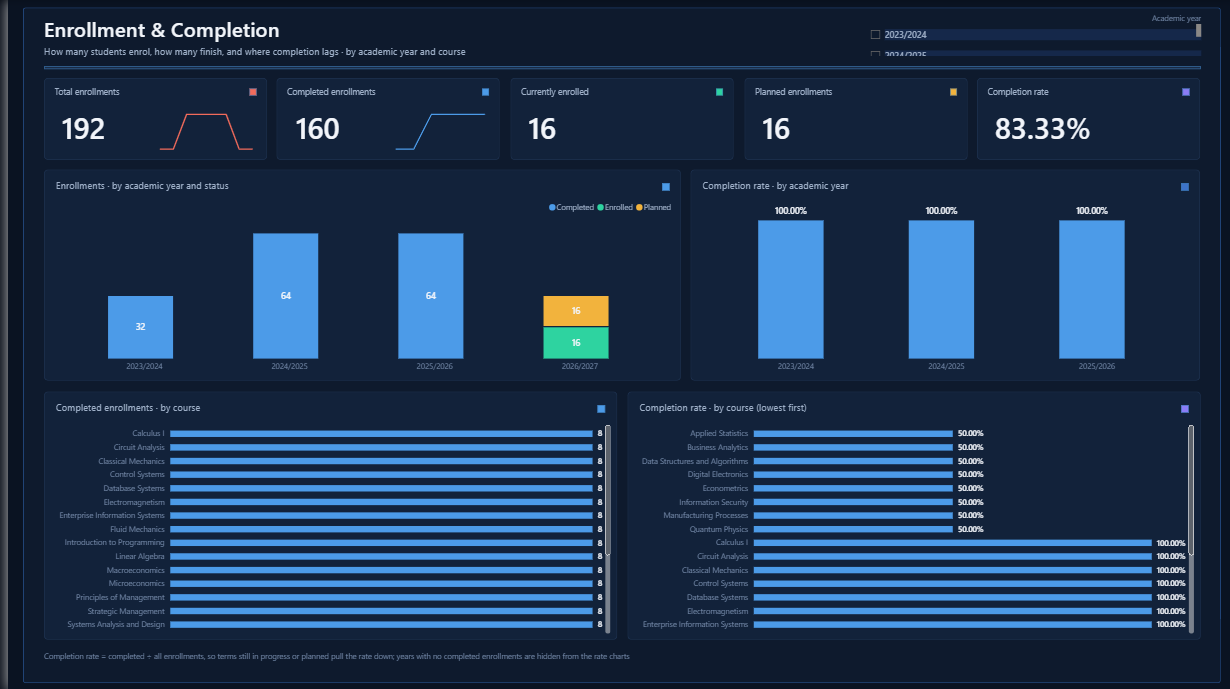

This screenshot's page, from the dashboard's own definition file:
{"tool":"powerbi","page":{"name":"Enrollment & Completion","canvas":[1920,1080],"ordinal":1},"visuals":[{"type":"shape","box":[24,12,1872,1056],"z":100},{"type":"textbox","box":[56,24,1200,46],"z":200},{"type":"textbox","box":[56,70,1250,26],"z":300},{"type":"textbox","box":[1340,18,524,18],"z":400},{"type":"slicer","fields":{"Values":["Semester.AcademicYear"]},"box":[1340,38,524,50],"z":500},{"type":"shape","box":[56,104,1808,5],"z":600},{"type":"shape","box":[56,122,348.8,128],"z":700},{"type":"textbox","box":[72,134,292.8,22],"z":800},{"type":"shape","box":[376.8,139,11,11],"z":900},{"type":"cardVisual","fields":{"Data":["Enrollment.Total Enrollments"]},"box":[68,158,160.4,82],"z":1000},{"type":"lineChart","fields":{"Category":["Semester.Semester Label"],"Y":["Enrollment.Total Enrollments"]},"box":[230.4,160,160.4,78],"z":1100},{"type":"shape","box":[420.8,122,348.8,128],"z":1200},{"type":"textbox","box":[436.8,134,292.8,22],"z":1300},{"type":"shape","box":[741.6,139,11,11],"z":1400},{"type":"cardVisual","fields":{"Data":["Enrollment.Completed Enrollments"]},"box":[432.8,158,160.4,82],"z":1500},{"type":"lineChart","fields":{"Category":["Semester.Semester Label"],"Y":["Enrollment.Completed Enrollments"]},"box":[595.2,160,160.4,78],"z":1600},{"type":"shape","box":[785.6,122,348.8,128],"z":1700},{"type":"textbox","box":[801.6,134,292.8,22],"z":1800},{"type":"shape","box":[1106.4,139,11,11],"z":1900},{"type":"cardVisual","fields":{"Data":["Enrollment.Currently Enrolled"]},"box":[797.6,158,320.8,82],"z":2000},{"type":"shape","box":[1150.4,122,348.8,128],"z":2100},{"type":"textbox","box":[1166.4,134,292.8,22],"z":2200},{"type":"shape","box":[1471.2,139,11,11],"z":2300},{"type":"cardVisual","fields":{"Data":["Enrollment.Planned Enrollments"]},"box":[1162.4,158,320.8,82],"z":2400},{"type":"shape","box":[1515.2,122,348.8,128],"z":2500},{"type":"textbox","box":[1531.2,134,292.8,22],"z":2600},{"type":"shape","box":[1836,139,11,11],"z":2700},{"type":"cardVisual","fields":{"Data":["Enrollment.Enrollment Completion Rate"]},"box":[1527.2,158,320.8,82],"z":2800},{"type":"shape","box":[56,266,995.6,330],"z":2900},{"type":"textbox","box":[74,280,925.6,24],"z":3000},{"type":"shape","box":[1021.6,286,12,12],"z":3100},{"type":"columnChart","fields":{"Category":["Semester.AcademicYear"],"Y":["Enrollment.Total Enrollments"],"Series":["Enrollment.EnrollmentStatus"]},"box":[66,310,975.6,276],"z":3200},{"type":"shape","box":[1067.6,266,796.4,330],"z":3300},{"type":"textbox","box":[1085.6,280,726.4,24],"z":3400},{"type":"shape","box":[1834,286,12,12],"z":3500},{"type":"clusteredColumnChart","fields":{"Category":["Semester.AcademicYear"],"Y":["Enrollment.Enrollment Completion Rate by Year"]},"box":[1077.6,310,776.4,276],"z":3600},{"type":"shape","box":[56,612,896,388],"z":3700},{"type":"textbox","box":[74,626,826,24],"z":3800},{"type":"shape","box":[922,632,12,12],"z":3900},{"type":"clusteredBarChart","fields":{"Category":["Course.CourseTitle"],"Y":["Enrollment.Completed Enrollments"]},"box":[66,656,876,334],"z":4000},{"type":"shape","box":[968,612,896,388],"z":4100},{"type":"textbox","box":[986,626,826,24],"z":4200},{"type":"shape","box":[1834,632,12,12],"z":4300},{"type":"clusteredBarChart","fields":{"Category":["Course.CourseTitle"],"Y":["Enrollment.Enrollment Completion Rate by Course"]},"box":[978,656,876,334],"z":4400},{"type":"textbox","box":[56,1014,1400,24],"z":4500}]}

Visuals, with their boxes in screenshot pixels (x1, y1, x2, y2), scaled from the page's 1920x1080 canvas onto the 1230x689 screenshot:
shape: BBox(15, 8, 1215, 681)
textbox: BBox(36, 15, 805, 45)
textbox: BBox(36, 45, 837, 61)
textbox: BBox(858, 11, 1194, 23)
slicer - Semester.AcademicYear: BBox(858, 24, 1194, 56)
shape: BBox(36, 66, 1194, 70)
shape: BBox(36, 78, 259, 159)
textbox: BBox(46, 85, 234, 100)
shape: BBox(241, 89, 248, 96)
cardVisual - Enrollment.Total Enrollments: BBox(44, 101, 146, 153)
lineChart - Semester.Semester Label x Enrollment.Total Enrollments: BBox(148, 102, 250, 152)
shape: BBox(270, 78, 493, 159)
textbox: BBox(280, 85, 467, 100)
shape: BBox(475, 89, 482, 96)
cardVisual - Enrollment.Completed Enrollments: BBox(277, 101, 380, 153)
lineChart - Semester.Semester Label x Enrollment.Completed Enrollments: BBox(381, 102, 484, 152)
shape: BBox(503, 78, 727, 159)
textbox: BBox(514, 85, 701, 100)
shape: BBox(709, 89, 716, 96)
cardVisual - Enrollment.Currently Enrolled: BBox(511, 101, 716, 153)
shape: BBox(737, 78, 960, 159)
textbox: BBox(747, 85, 935, 100)
shape: BBox(942, 89, 950, 96)
cardVisual - Enrollment.Planned Enrollments: BBox(745, 101, 950, 153)
shape: BBox(971, 78, 1194, 159)
textbox: BBox(981, 85, 1168, 100)
shape: BBox(1176, 89, 1183, 96)
cardVisual - Enrollment.Enrollment Completion Rate: BBox(978, 101, 1184, 153)
shape: BBox(36, 170, 674, 380)
textbox: BBox(47, 179, 640, 194)
shape: BBox(654, 182, 662, 190)
columnChart - Semester.AcademicYear x Enrollment.Total Enrollments: BBox(42, 198, 667, 374)
shape: BBox(684, 170, 1194, 380)
textbox: BBox(695, 179, 1161, 194)
shape: BBox(1175, 182, 1183, 190)
clusteredColumnChart - Semester.AcademicYear x Enrollment.Enrollment Completion Rate by Year: BBox(690, 198, 1188, 374)
shape: BBox(36, 390, 610, 638)
textbox: BBox(47, 399, 577, 415)
shape: BBox(591, 403, 598, 411)
clusteredBarChart - Course.CourseTitle x Enrollment.Completed Enrollments: BBox(42, 419, 603, 632)
shape: BBox(620, 390, 1194, 638)
textbox: BBox(632, 399, 1161, 415)
shape: BBox(1175, 403, 1183, 411)
clusteredBarChart - Course.CourseTitle x Enrollment.Enrollment Completion Rate by Course: BBox(627, 419, 1188, 632)
textbox: BBox(36, 647, 933, 662)
